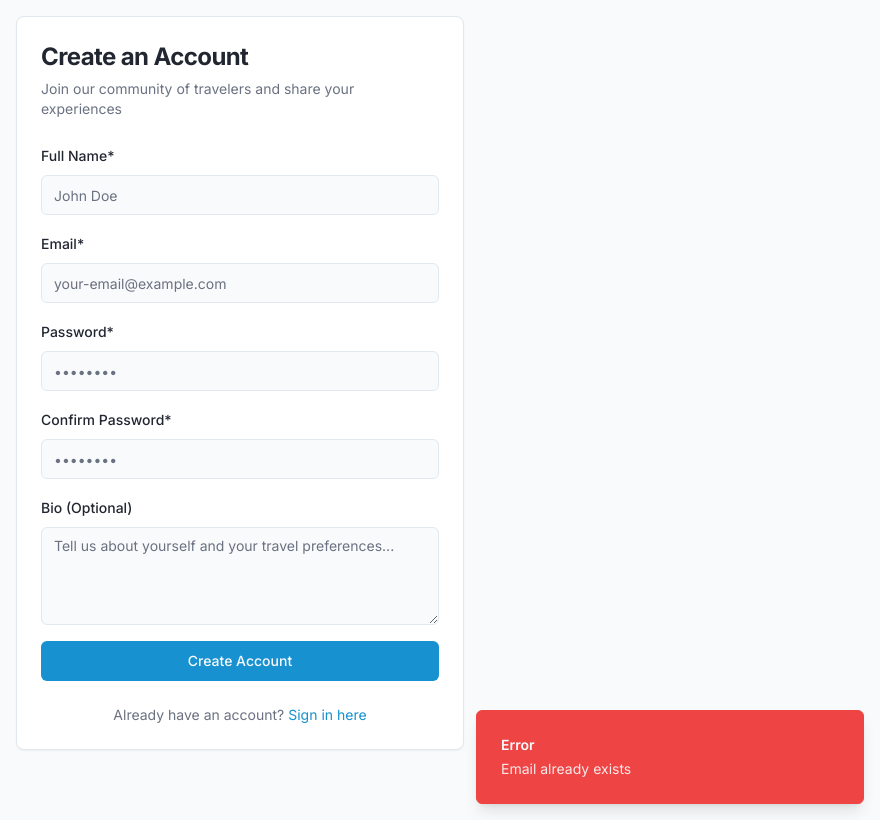
Test: Register Page › shows loading state during submission
# Fill in form fields
Type "Test User" into the field labelled "Full Name*" at (240, 195), box top-left (41, 175), bottom-right (439, 215)
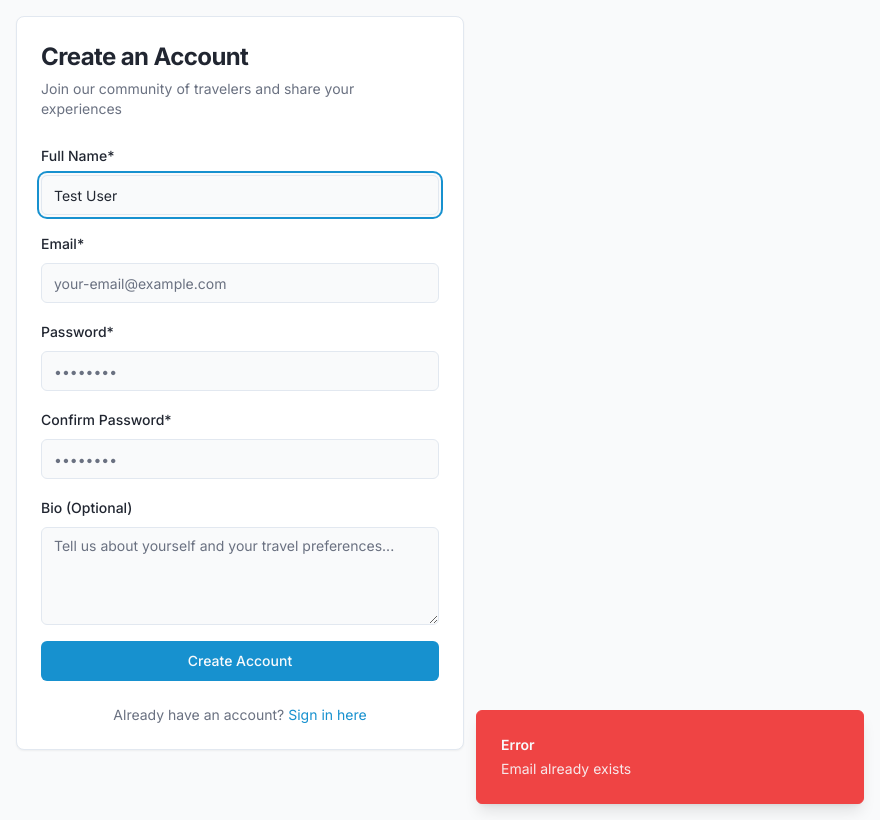
Type "test@example.com" into the field labelled "Email*" at (240, 283), box top-left (41, 263), bottom-right (439, 303)
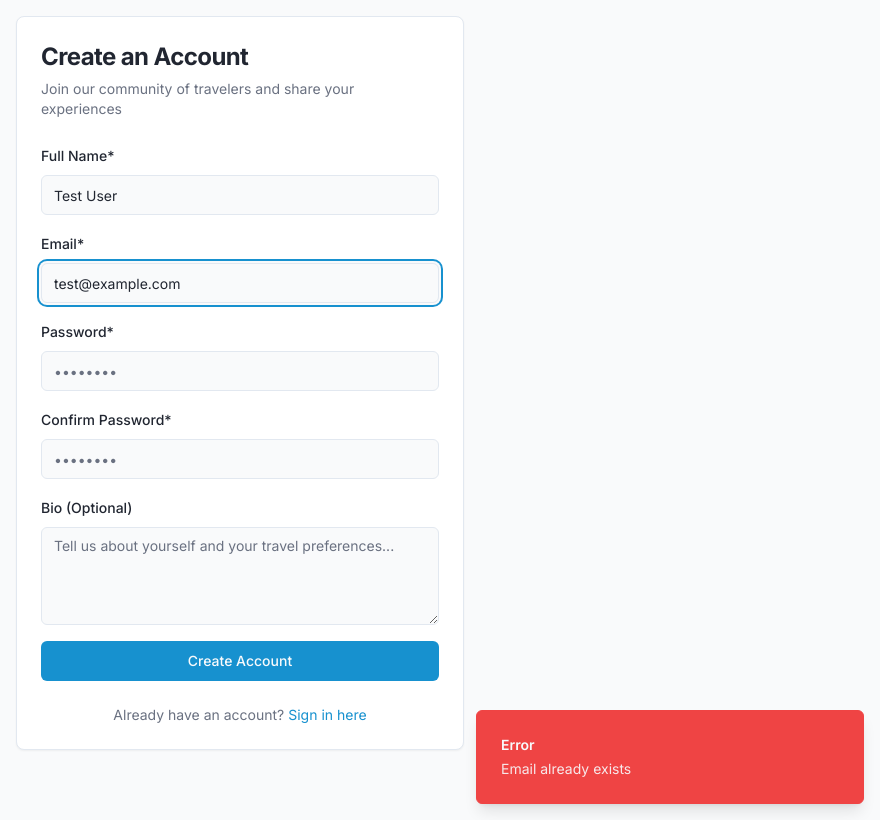
Type "password123" into the password field labelled "Password*" at (240, 371), box top-left (41, 351), bottom-right (439, 391)
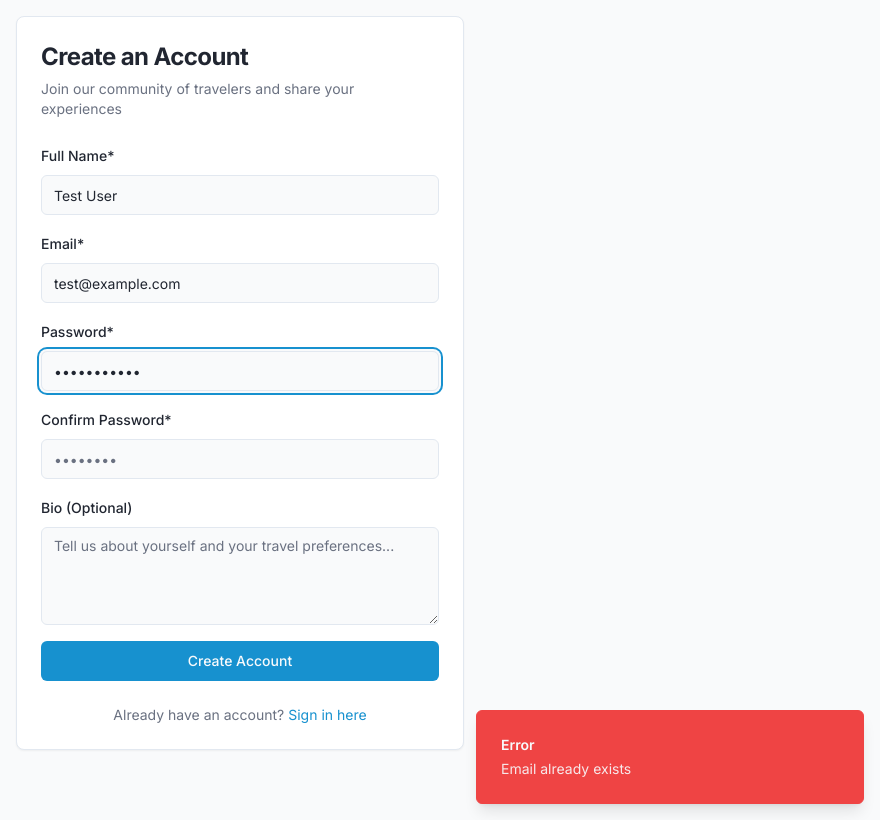
Type "password123" into the password field labelled "Confirm Password*" at (240, 459), box top-left (41, 439), bottom-right (439, 479)
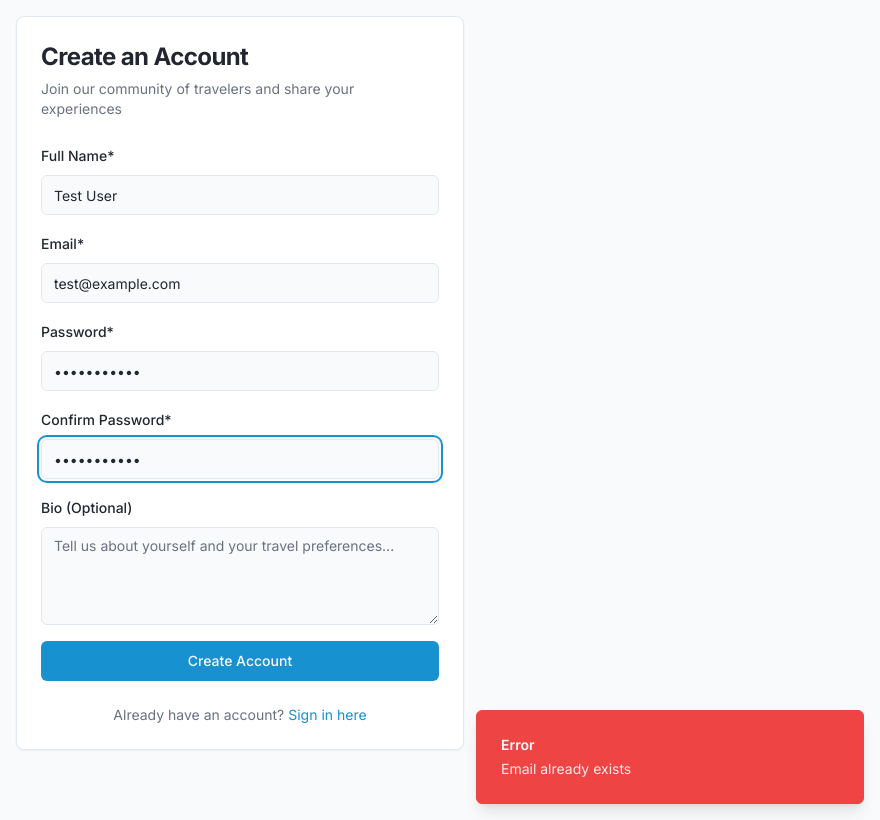
# Submit the form
Click the button "Create Account" at (240, 661), box top-left (41, 641), bottom-right (439, 681)
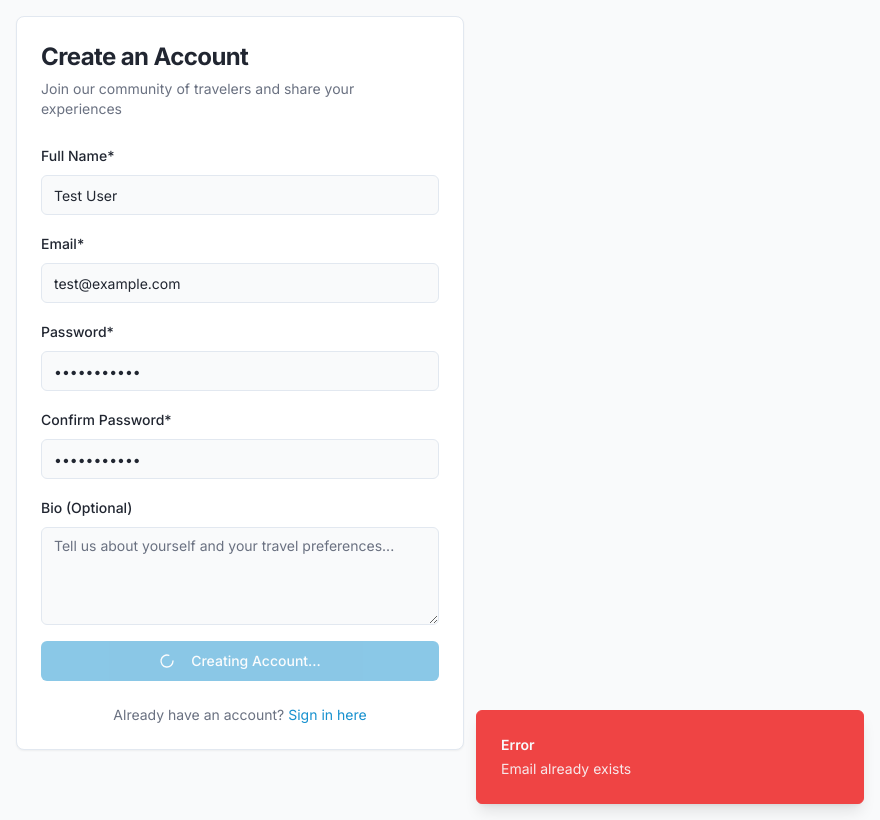
Check: the button "Creating Account..." is disabled, box top-left (41, 641), bottom-right (439, 681)
